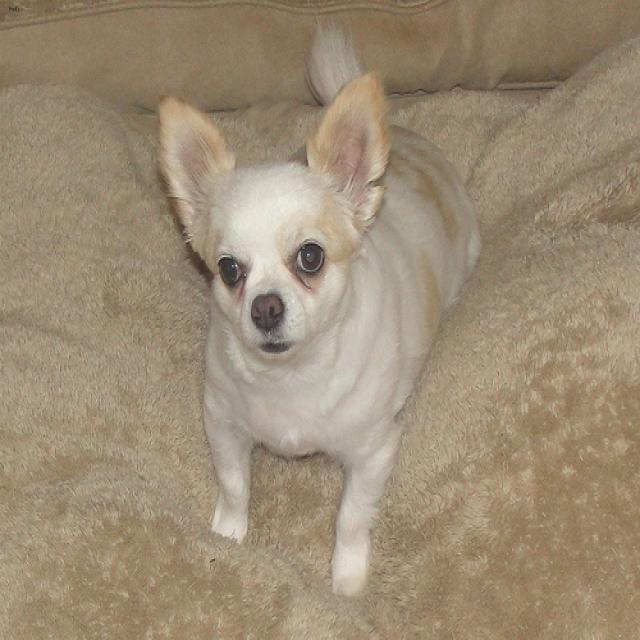dog-chihuahua: (150, 18, 481, 608)
